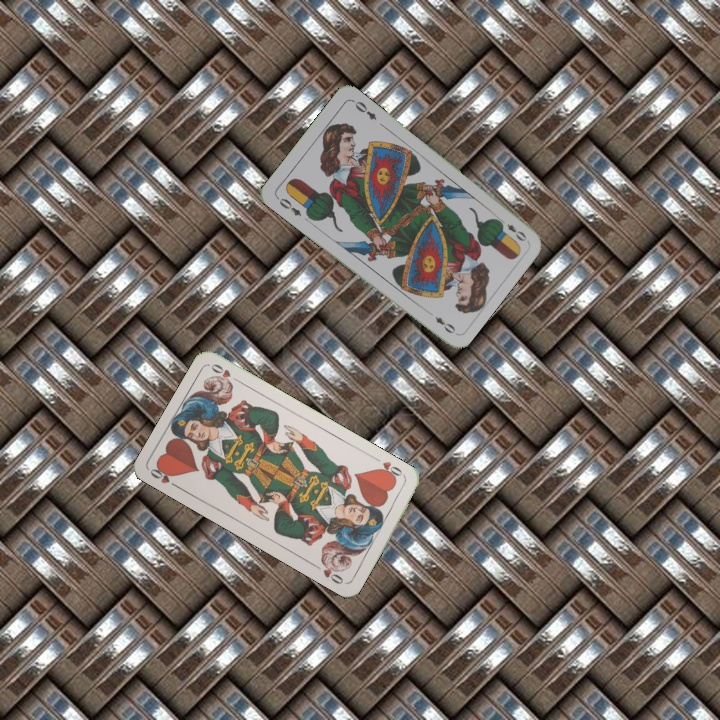EO: (494, 214, 529, 244), (273, 193, 304, 219)
HO: (146, 461, 183, 492), (371, 454, 408, 483)
